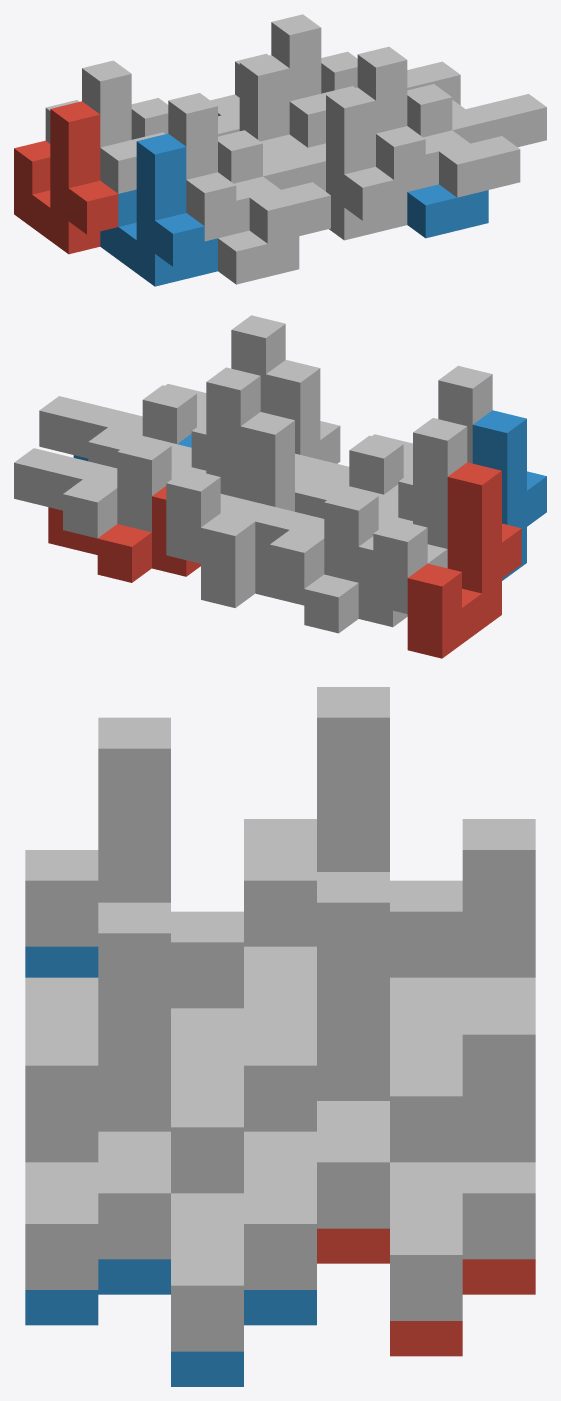
Rendered from tiling.obj.
3 renders of one model, top to bottom at view 1: azimuth 30°, elevation 25°; view 2: azimuth 150°, elevation 25°; view 3: azimuth 270°, elevation 25°, orthographic. The views are drawn at different scales.
Parts seen in each view (by area): view 1: copy_1_domain_1, copy_1_domain_2, copy_2_domain_8, copy_2_domain_4, copy_1_domain_6, copy_1_domain_4, copy_1_domain_8, copy_1_domain_7, copy_1_domain_3, copy_1_domain_5, copy_2_domain_2, copy_2_domain_6 (+2 smaller); view 2: copy_1_domain_1, copy_2_domain_7, copy_2_domain_3, copy_1_domain_5, copy_1_domain_3, copy_1_domain_7, copy_2_domain_8, copy_1_domain_2, copy_2_domain_1, copy_2_domain_5, copy_2_domain_4, copy_1_domain_6 (+2 smaller); view 3: copy_2_domain_8, copy_2_domain_7, copy_1_domain_8, copy_1_domain_7, copy_1_domain_4, copy_1_domain_3, copy_2_domain_3, copy_2_domain_4, copy_2_domain_6, copy_2_domain_5, copy_1_domain_2, copy_1_domain_6.
Boxes of the visible parts, x1,y1,x2,y2 form: copy_1_domain_1: (14,101,118,254); copy_1_domain_2: (100,133,217,286); copy_2_domain_8: (407,84,546,197); copy_2_domain_4: (218,130,330,243); copy_1_domain_6: (326,87,407,240); copy_1_domain_4: (132,93,249,241); copy_1_domain_8: (321,46,438,195); copy_1_domain_7: (235,14,325,147); copy_1_domain_3: (45,60,136,193); copy_1_domain_5: (210,55,307,155); copy_2_domain_2: (218,230,299,284); copy_2_domain_6: (407,184,488,238); copy_1_domain_1: (407,462,521,658); copy_2_domain_7: (14,436,191,538); copy_2_domain_3: (221,486,398,588); copy_1_domain_5: (201,412,314,607); copy_1_domain_3: (373,418,467,613); copy_1_domain_7: (166,367,260,563); copy_2_domain_8: (39,384,206,468); copy_1_domain_2: (472,410,546,580); copy_2_domain_1: (255,536,407,633); copy_2_domain_5: (48,486,200,582); copy_2_domain_4: (295,434,412,518); copy_1_domain_6: (266,360,340,463); copy_2_domain_8: (25,1096,316,1351); copy_2_domain_7: (244,1065,535,1320); copy_1_domain_8: (25,902,316,1162); copy_1_domain_7: (244,872,535,1162); copy_1_domain_4: (25,717,316,946); copy_1_domain_3: (244,687,535,977); copy_2_domain_3: (244,880,535,1065); copy_2_domain_4: (25,911,243,1096); copy_2_domain_6: (25,1259,316,1386); copy_2_domain_5: (317,1228,535,1356); copy_1_domain_2: (25,946,98,977); copy_1_domain_6: (25,1131,98,1162).
Bounding box in the file's own units: 14 × 5 × 7.
